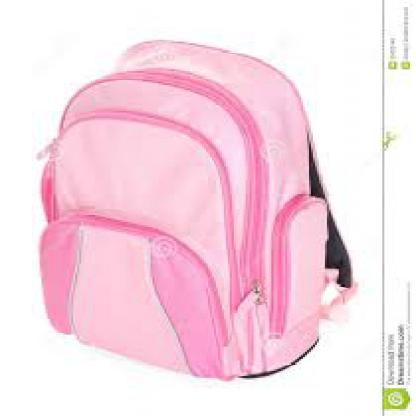morral: (22, 27, 366, 380)
